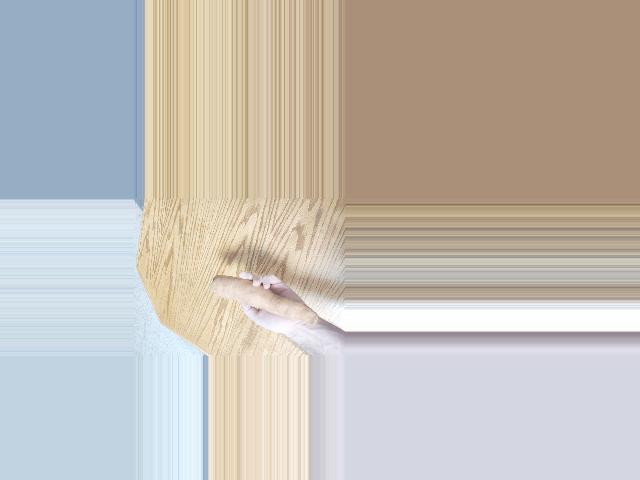sweet_potato: (209, 273, 315, 324)
